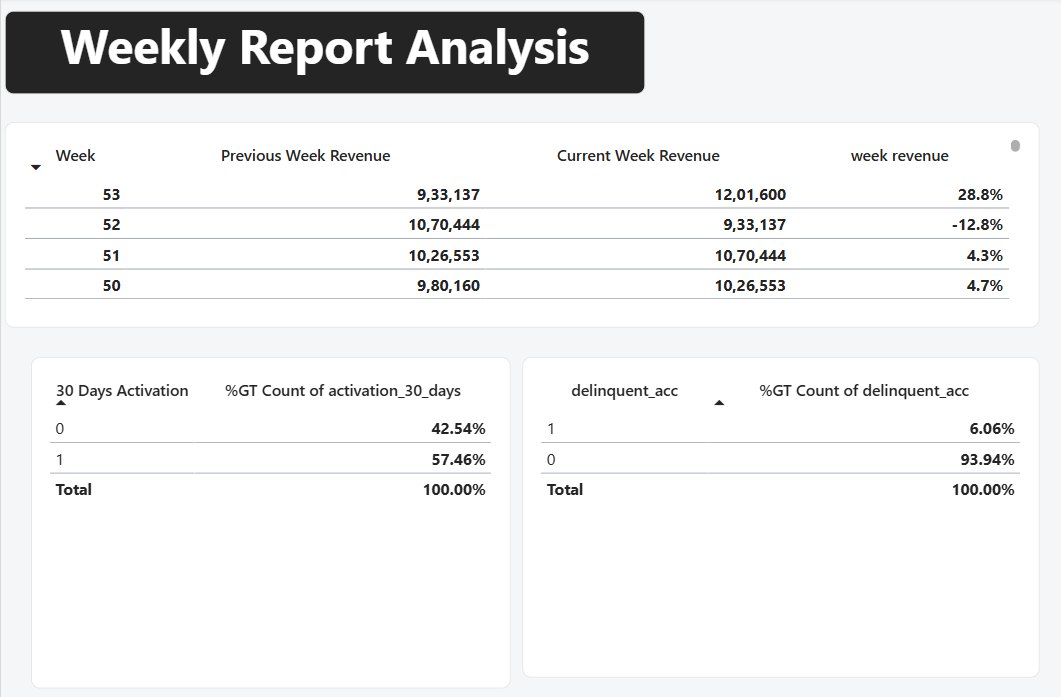

This screenshot's page, from the dashboard's own definition file:
{"tool":"powerbi","page":{"name":"Weekly Report Analysis","canvas":[960,720],"ordinal":2},"visuals":[{"type":"tableEx","fields":{"Values":["public cc_detail.Week_num2","public cc_detail.Previous_week_revenue","public cc_detail.Current_week_revenue","public cc_detail.week_revenue"]},"box":[3.6,111,921.7,183.4],"z":0},{"type":"pivotTable","fields":{"Values":["Sum(public cc_detail.delinquent_acc)"],"Rows":["public cc_detail.delinquent_acc"]},"box":[464.5,320.9,460.9,285.9],"z":1000},{"type":"pivotTable","fields":{"Values":["Sum(public cc_detail.activation_30_days)"],"Rows":["public cc_detail.activation_30_days"]},"box":[26.5,320.9,427.1,295.6],"z":2000},{"type":"textbox","box":[3.6,12.1,570.6,74.8],"z":3000}]}

Visuals, with their boxes on the page's 960x720 design canvas (x1, y1, x2, y2). These are canvas units, not pixel positions in the 1061x697 screenshot, which may show the page scaled, cropped or inside an application window:
tableEx - public cc_detail.Week_num2 x public cc_detail.Previous_week_revenue: [x1=4, y1=111, x2=925, y2=294]
pivotTable - Sum(public cc_detail.delinquent_acc) x public cc_detail.delinquent_acc: [x1=464, y1=321, x2=925, y2=607]
pivotTable - Sum(public cc_detail.activation_30_days) x public cc_detail.activation_30_days: [x1=26, y1=321, x2=454, y2=616]
textbox: [x1=4, y1=12, x2=574, y2=87]
